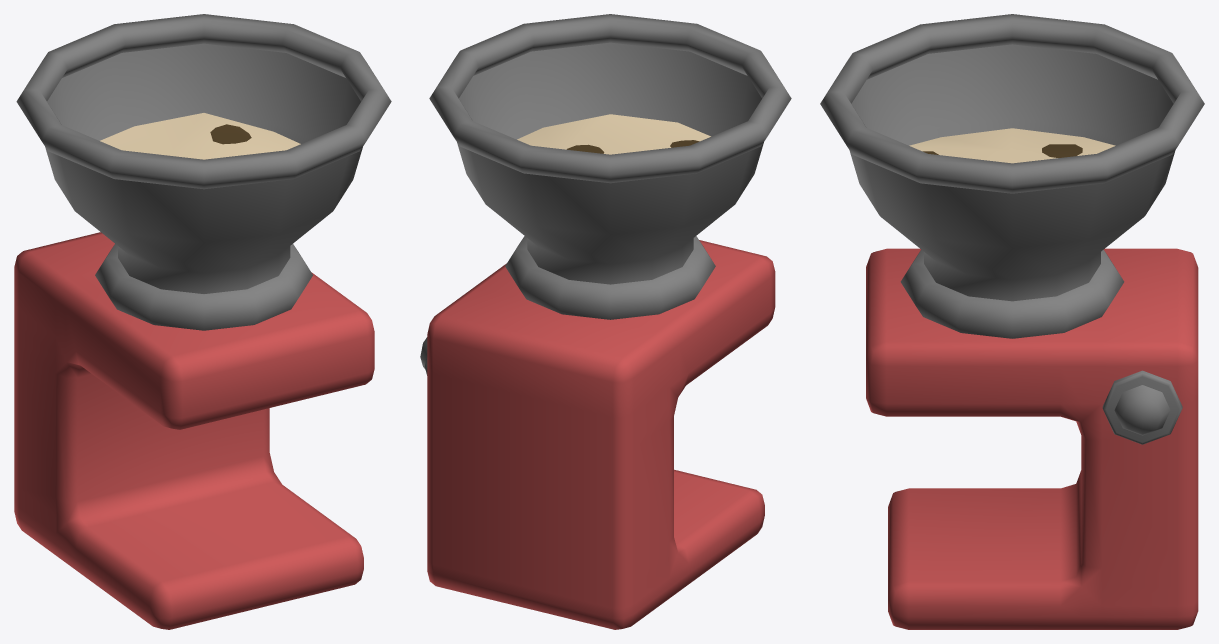
Rendered from Turret_07_B.fbx.
The picture shows the model from 3 angles, left to right: view 1: azimuth 30°, elevation 25°; view 2: azimuth 150°, elevation 25°; view 3: azimuth 270°, elevation 25°; orthographic projection. The views are drawn at different scales.
Visible parts, largest first — view 1: 008; view 2: 008; view 3: 008.
Part boxes in pixels (bbox=[...]): 008: bbox=[14, 14, 391, 629]; 008: bbox=[420, 14, 791, 629]; 008: bbox=[820, 14, 1204, 629].
Size of the model in its own units: 39.52 by 55.7 by 39.52.
2 materials, 1 textured.
